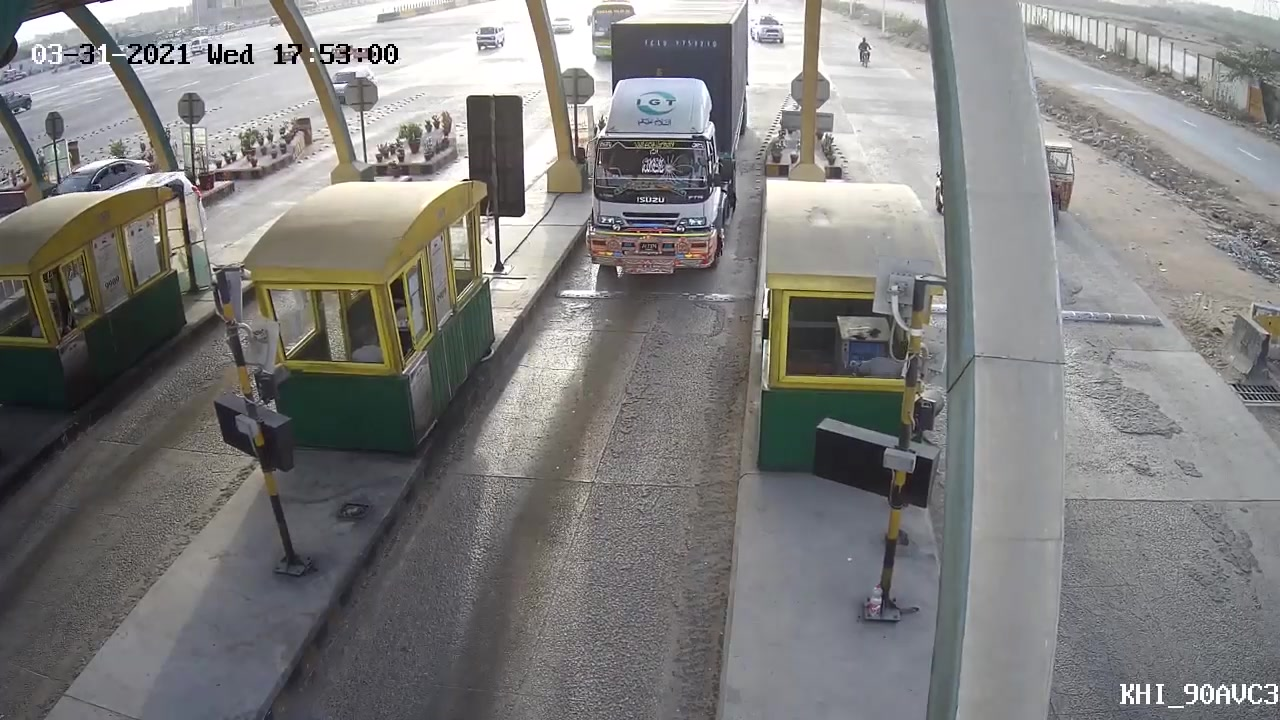F6: (576, 13, 747, 299)
